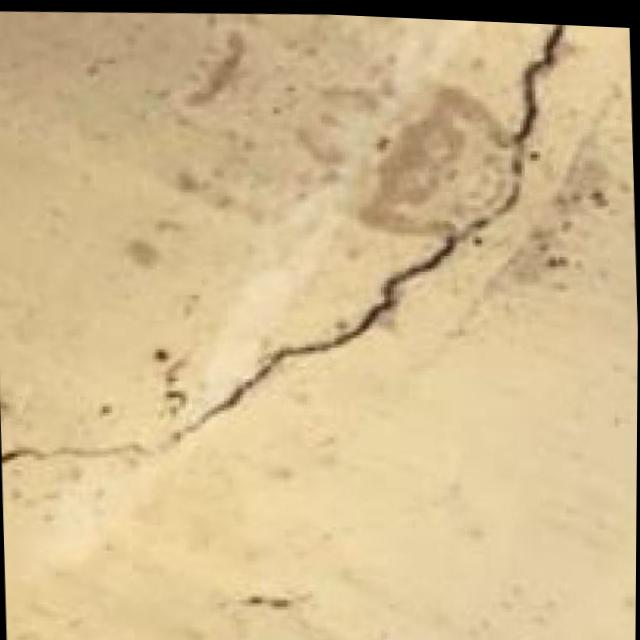Crack: (0, 0, 596, 520)
